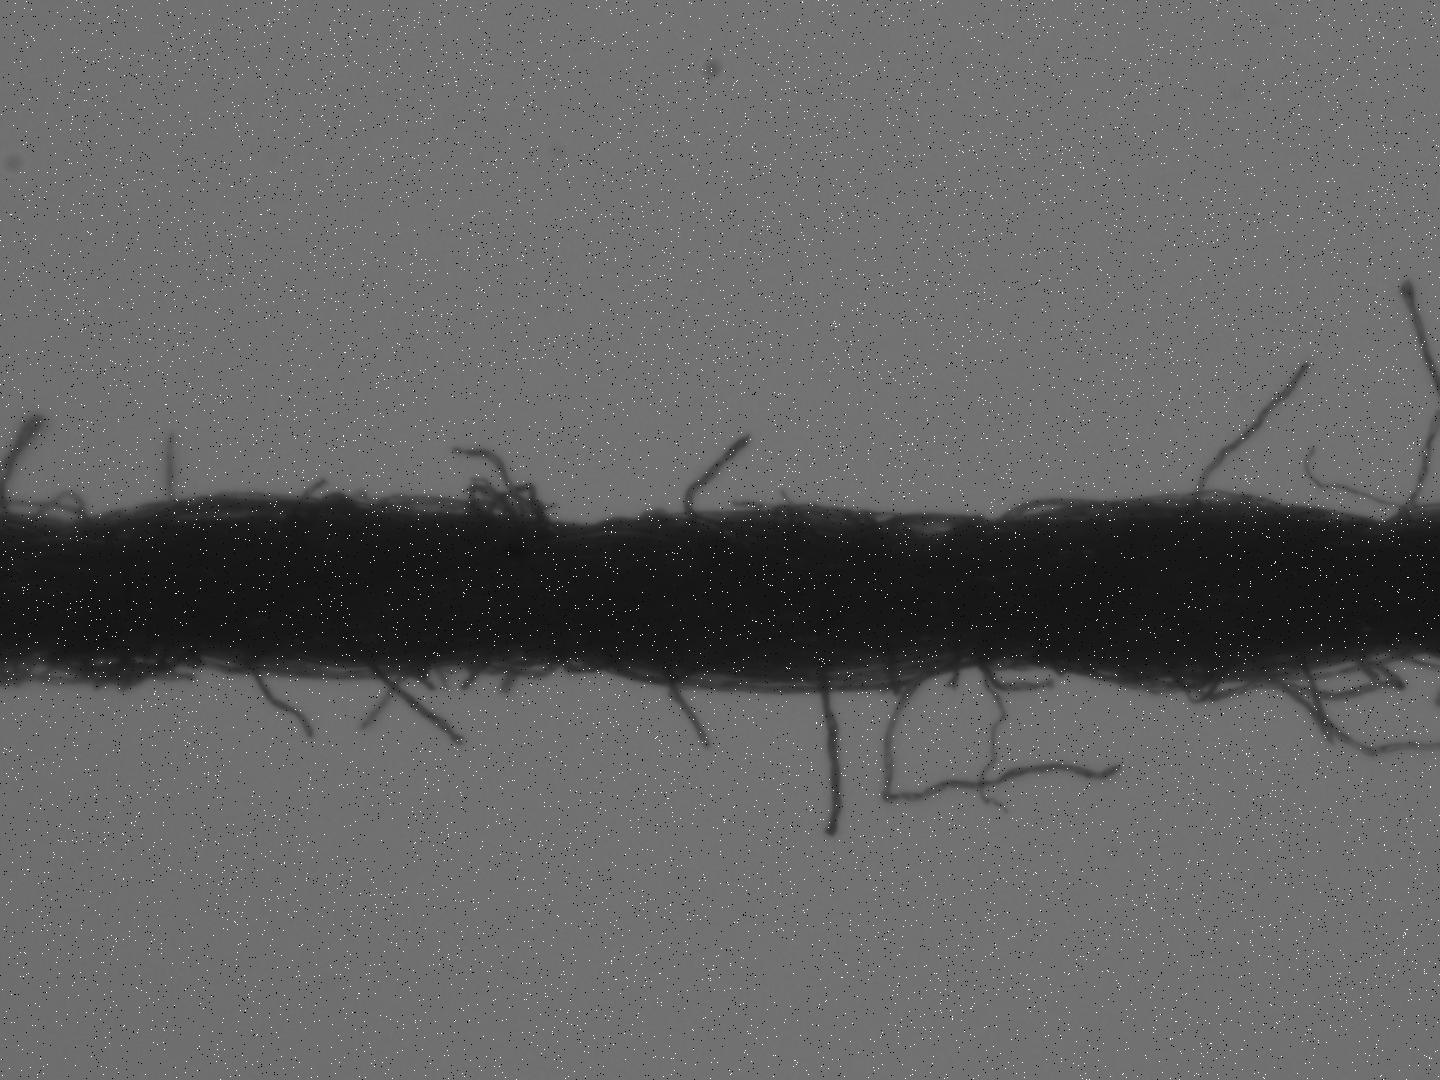loop_fiber: (1238, 652, 1403, 703), (11, 648, 132, 691), (54, 650, 181, 690), (465, 478, 545, 521), (26, 489, 91, 529), (1175, 665, 1228, 707), (570, 656, 617, 676)
protruding_fiber: (1193, 348, 1322, 507), (379, 669, 465, 754), (684, 430, 755, 517), (252, 661, 313, 745), (819, 674, 841, 844), (163, 430, 178, 513)
